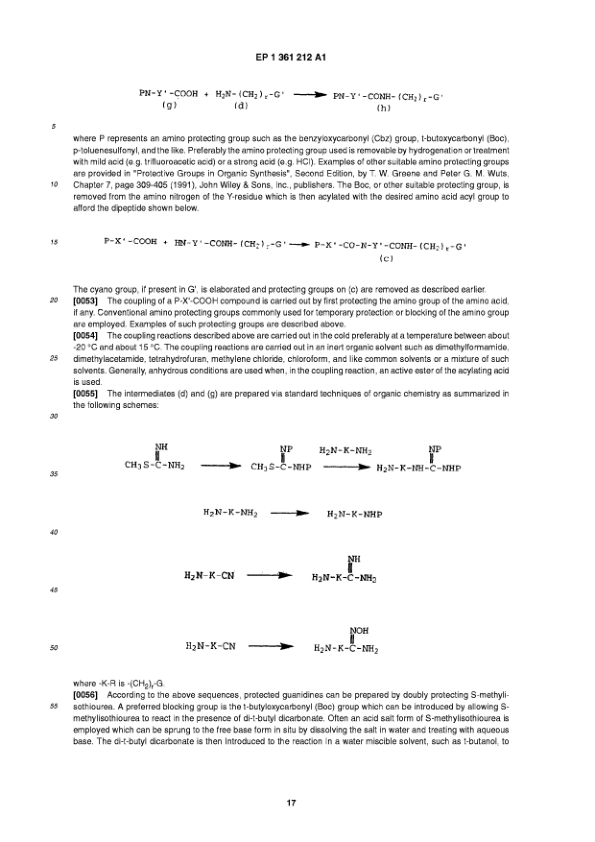compound-structure: (374, 438, 467, 481), (251, 442, 316, 490), (332, 91, 441, 119), (311, 623, 386, 662), (123, 438, 190, 481), (310, 549, 388, 584), (308, 239, 466, 254), (138, 84, 201, 119), (212, 90, 286, 118), (180, 629, 242, 659), (172, 239, 285, 253), (203, 501, 263, 527), (323, 507, 388, 526), (180, 570, 241, 585), (97, 235, 161, 249), (319, 444, 370, 459)
reaction: (103, 430, 479, 490), (118, 77, 456, 129), (162, 620, 407, 671), (94, 228, 472, 261), (174, 554, 399, 592), (179, 503, 396, 531)
reaction-arrow: (323, 442, 370, 476), (201, 456, 243, 475), (245, 569, 299, 582), (269, 506, 312, 521), (291, 90, 327, 104), (248, 641, 292, 650), (288, 239, 311, 251)
